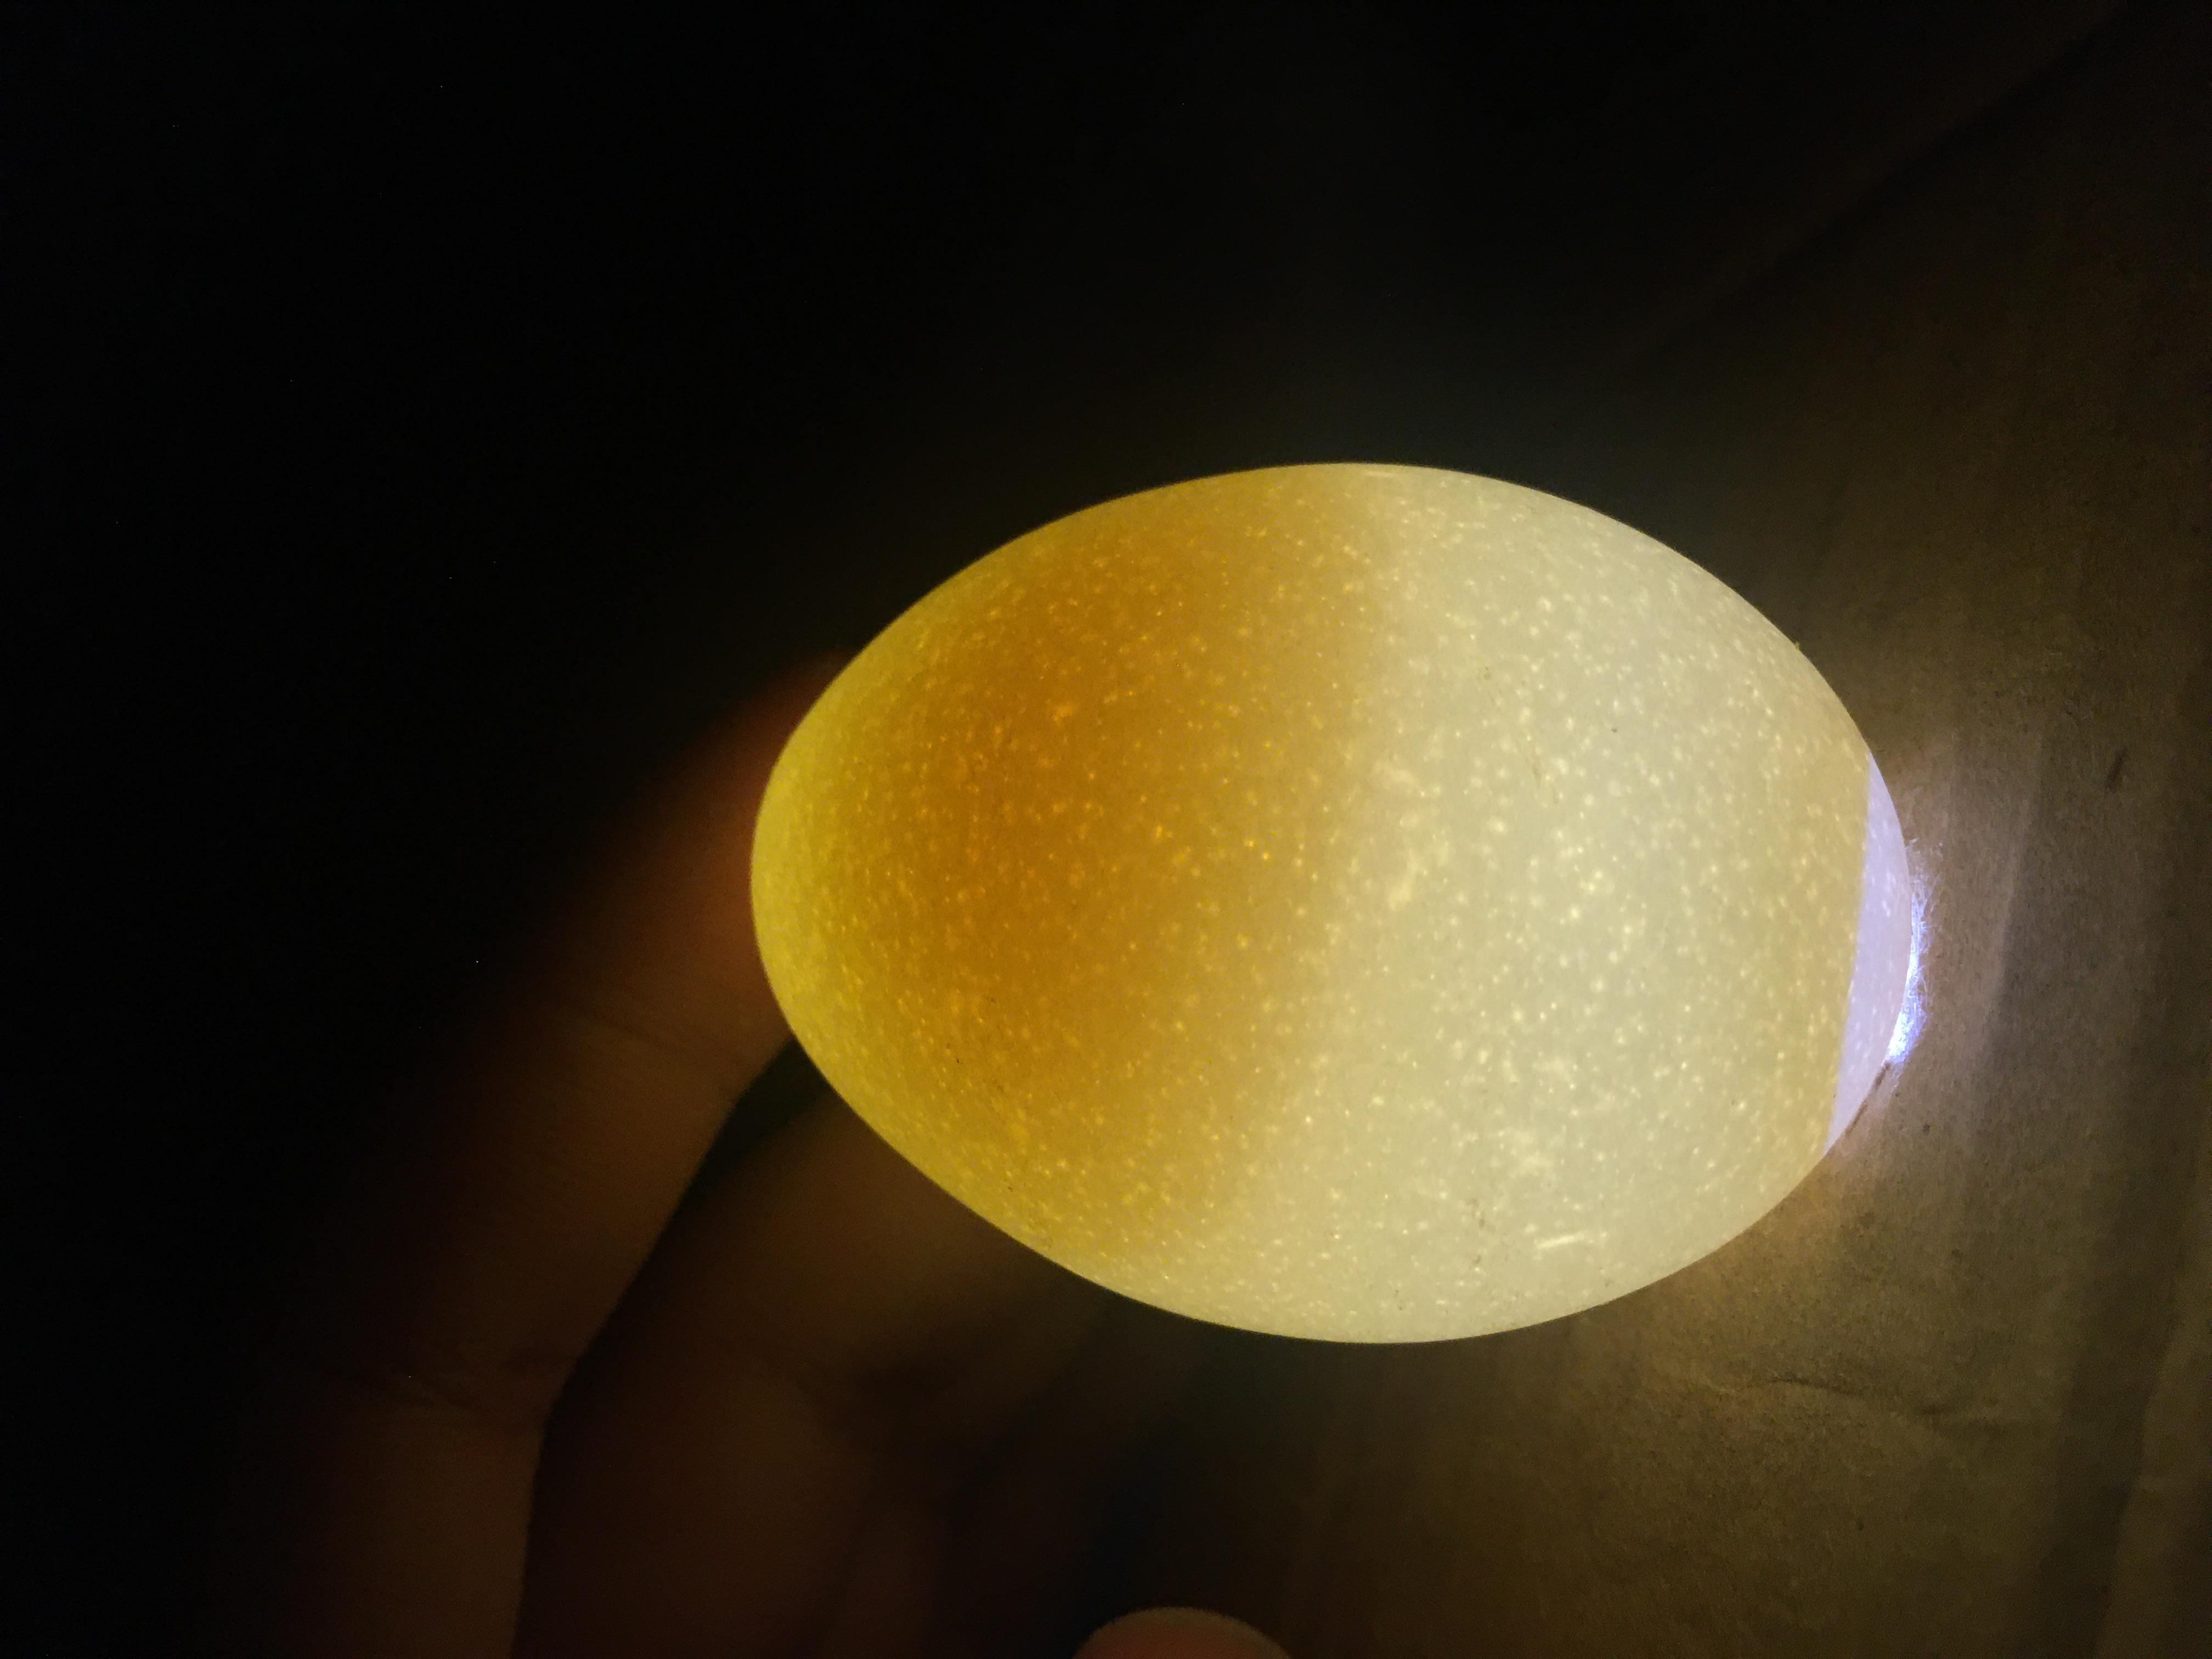A - Good: (406, 544, 1616, 1462)
